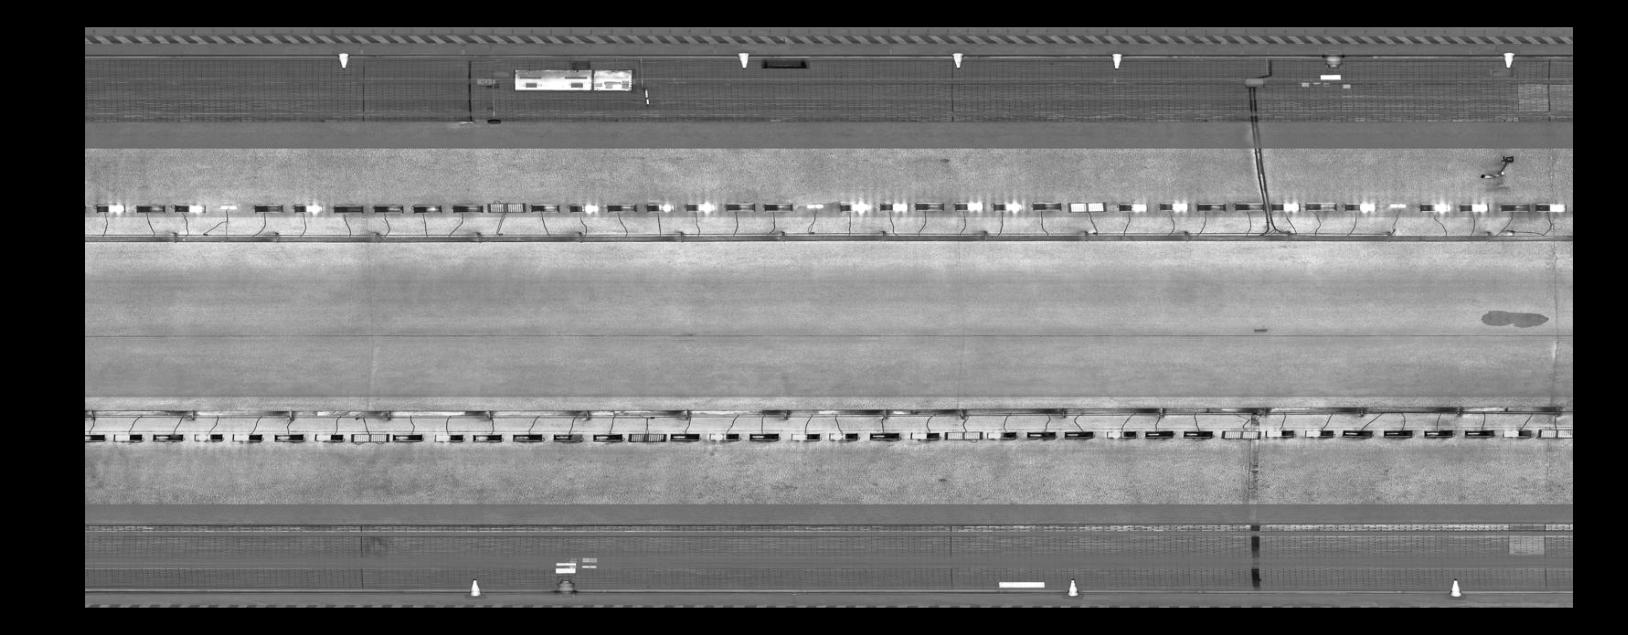light: (1218, 425, 1264, 442), (1064, 198, 1108, 215), (625, 429, 670, 444), (942, 427, 985, 443), (349, 429, 392, 444), (485, 199, 527, 215), (1535, 424, 1572, 442), (836, 197, 872, 215), (1116, 198, 1154, 215), (1156, 198, 1192, 215), (309, 429, 348, 444), (988, 197, 1024, 214), (866, 427, 903, 443), (447, 200, 487, 215), (705, 429, 744, 443), (432, 429, 468, 444), (229, 429, 266, 444), (408, 200, 446, 215), (107, 430, 145, 444), (825, 427, 861, 443), (510, 429, 545, 444), (1266, 197, 1303, 212), (290, 200, 327, 215), (550, 430, 585, 445), (1417, 200, 1454, 215), (369, 200, 405, 215), (330, 200, 367, 215), (905, 427, 942, 442), (150, 430, 186, 444), (170, 200, 209, 214), (1498, 425, 1537, 439), (1140, 427, 1178, 441), (94, 200, 128, 216), (912, 198, 947, 213), (876, 199, 912, 214), (566, 200, 601, 215), (251, 200, 287, 215), (191, 430, 226, 444), (1102, 427, 1139, 441), (1059, 427, 1096, 441), (787, 430, 824, 443), (1029, 198, 1063, 213), (390, 430, 425, 444), (272, 430, 306, 444), (587, 431, 626, 443), (1179, 427, 1216, 441), (745, 430, 782, 443), (1379, 426, 1417, 439), (682, 200, 717, 214), (132, 201, 167, 215), (1339, 426, 1375, 440), (1301, 426, 1336, 440), (1023, 427, 1058, 441), (667, 430, 702, 443), (471, 430, 504, 444), (1455, 200, 1492, 213), (1340, 199, 1378, 212), (1303, 198, 1340, 211), (1461, 426, 1498, 439), (528, 200, 563, 214), (984, 427, 1019, 441), (1532, 200, 1569, 213), (1497, 200, 1534, 213), (952, 199, 985, 213), (761, 200, 796, 213), (722, 200, 757, 213), (1263, 426, 1297, 439), (1193, 200, 1229, 212), (644, 200, 677, 213), (604, 200, 637, 213), (1421, 426, 1455, 439), (1230, 200, 1266, 212), (85, 429, 107, 442), (215, 201, 240, 211), (803, 201, 826, 210), (1386, 200, 1411, 208)
